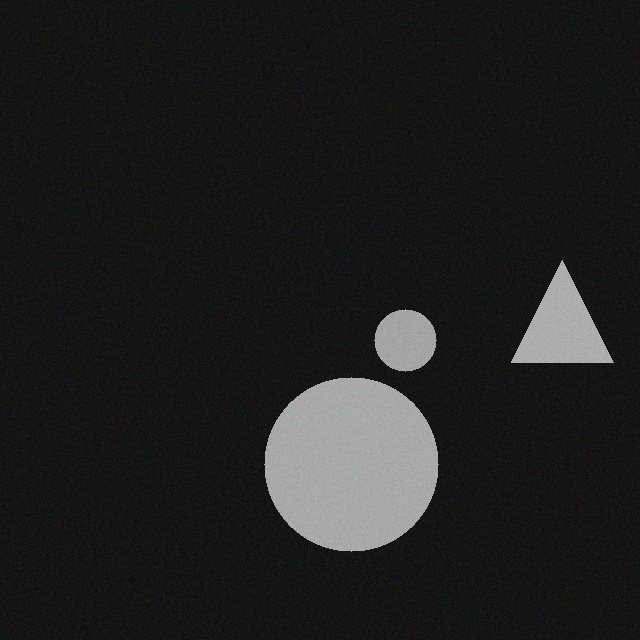circle: (251, 376, 425, 550), (361, 308, 423, 370)
triangle: (498, 259, 600, 361)
